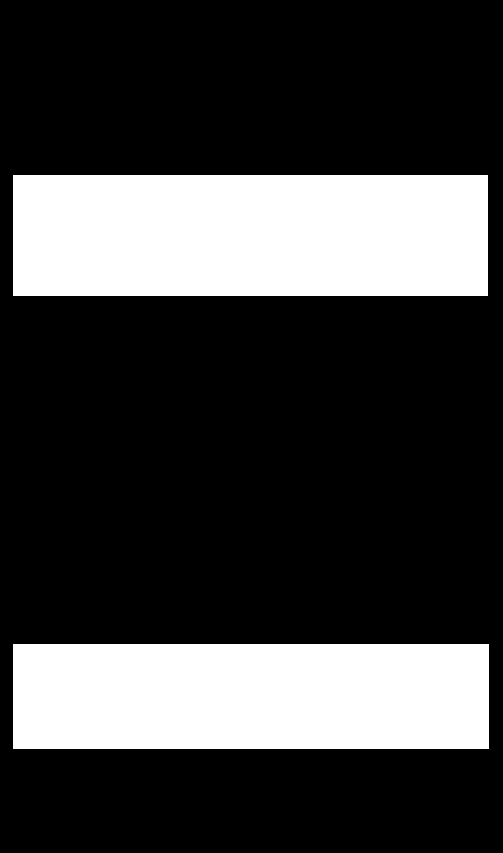table: (13, 175, 487, 295), (13, 644, 488, 748)
